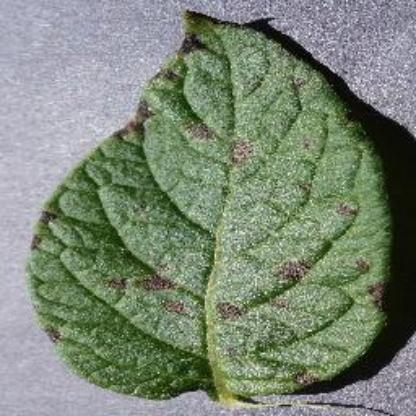Early-Blight: (26, 4, 412, 408)
